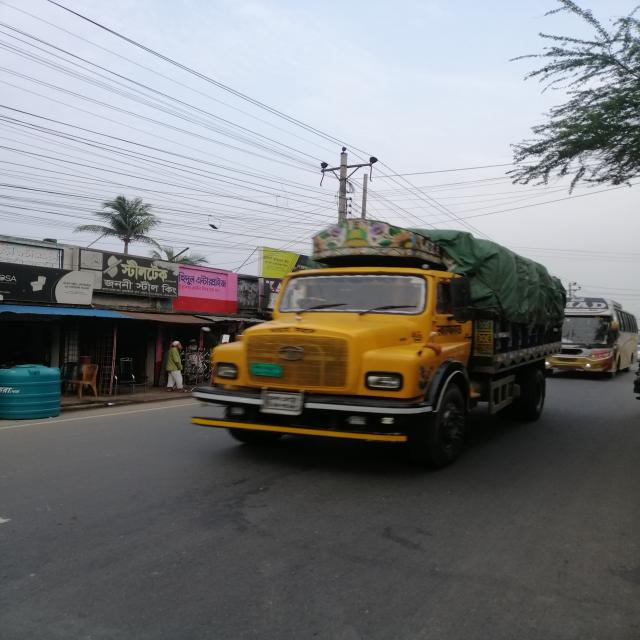Truck: (185, 220, 566, 461)
